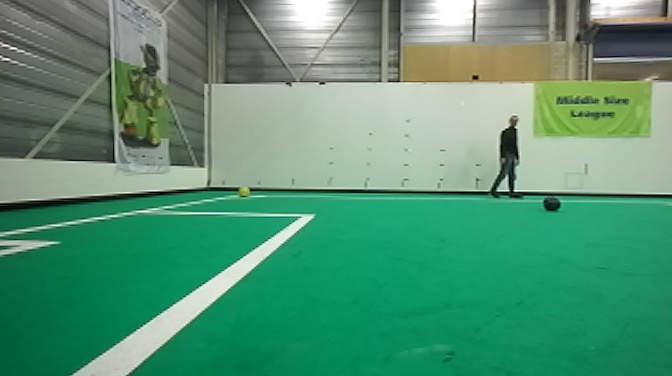ball: (540, 192, 563, 215), (238, 184, 250, 198)
human: (488, 113, 527, 200)
